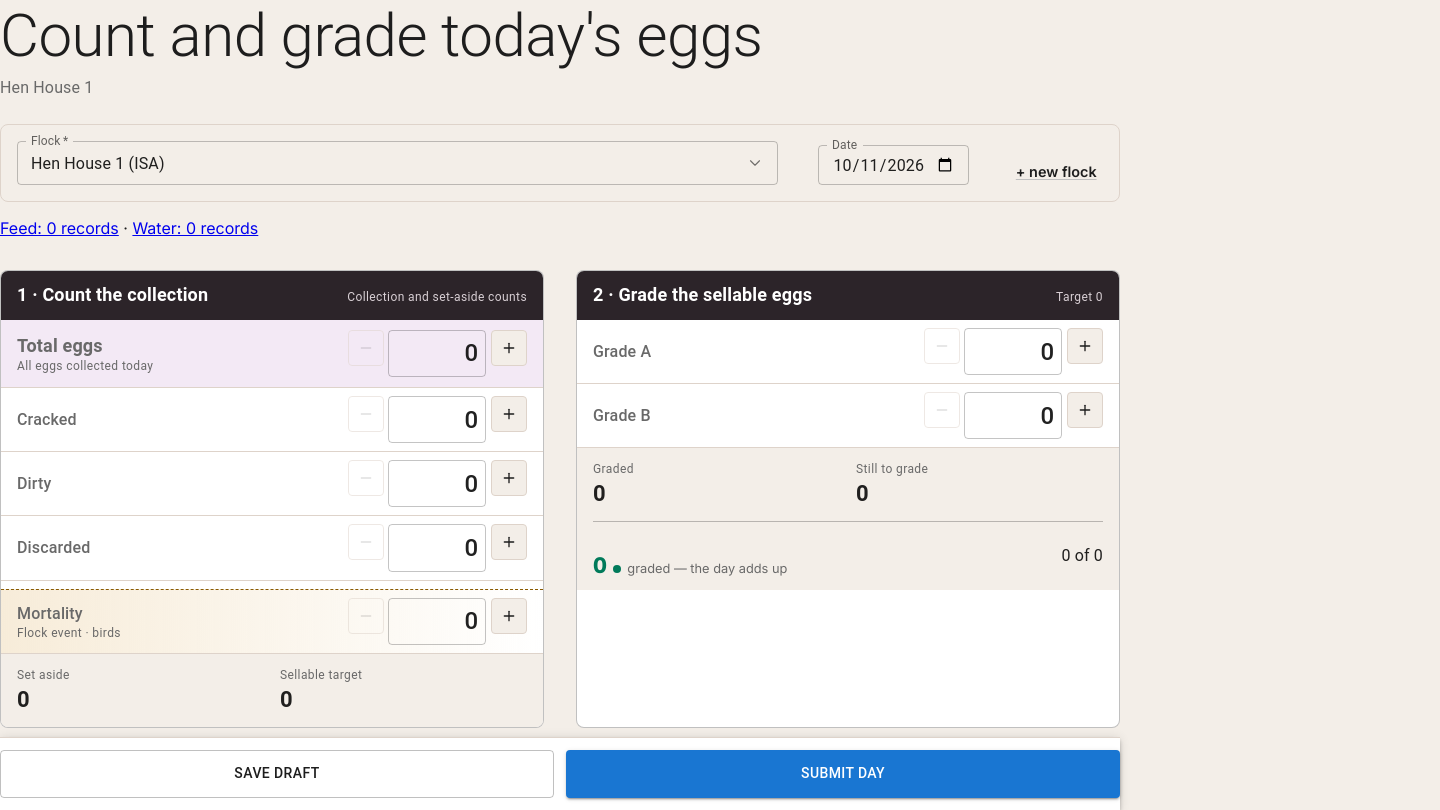
Test: DailyEntryPage new-flock dialog › closes on Cancel without creating anything
Expected: the number field labelled "Grade A" is shown, [964, 328, 1062, 375]
Expected: the button "Save draft" is enabled, [0, 750, 554, 798]
Click the button "+ new flock" at (1056, 172), box [1009, 158, 1103, 185]
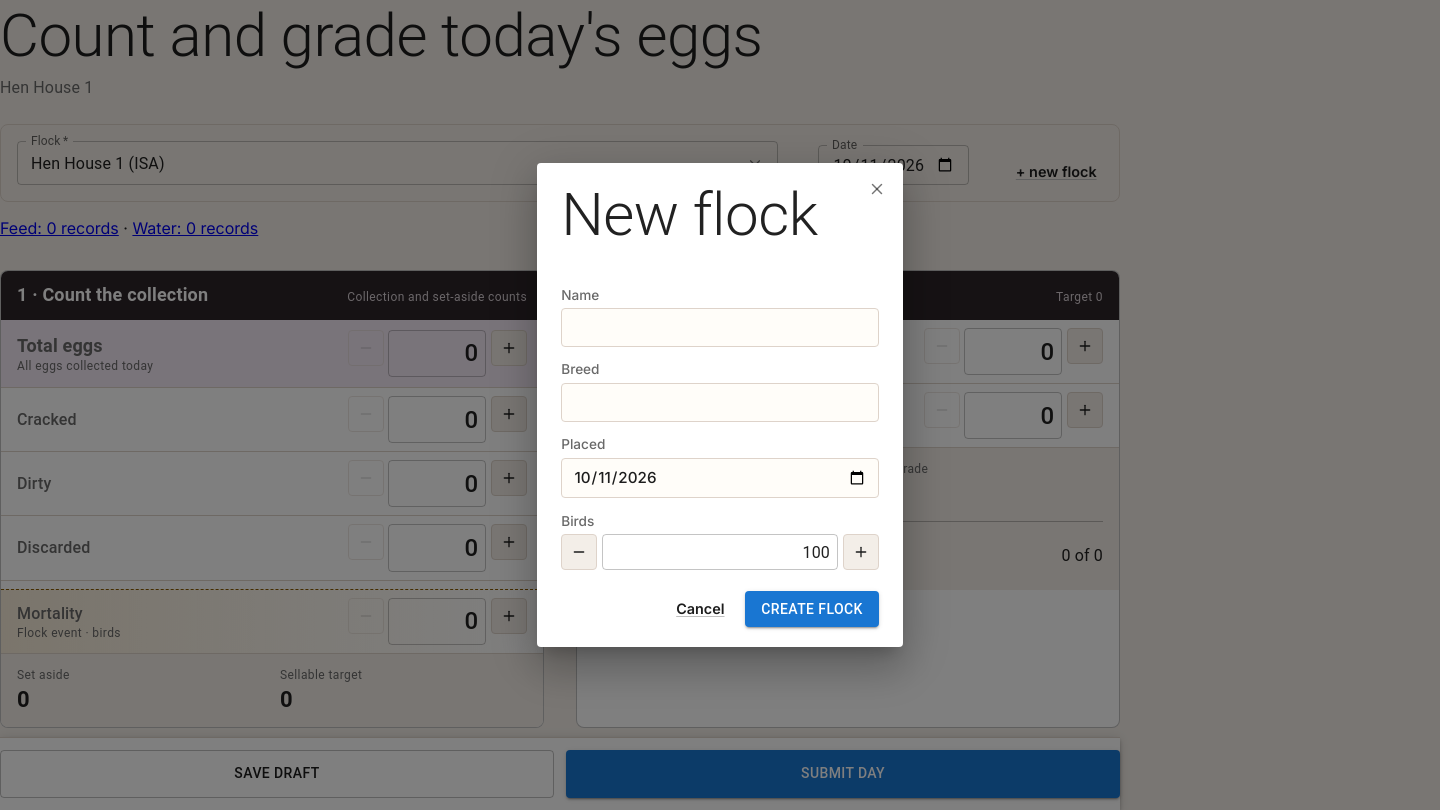
Type "Abandoned" into the field labelled "Name" at (720, 328), box [561, 308, 879, 347]
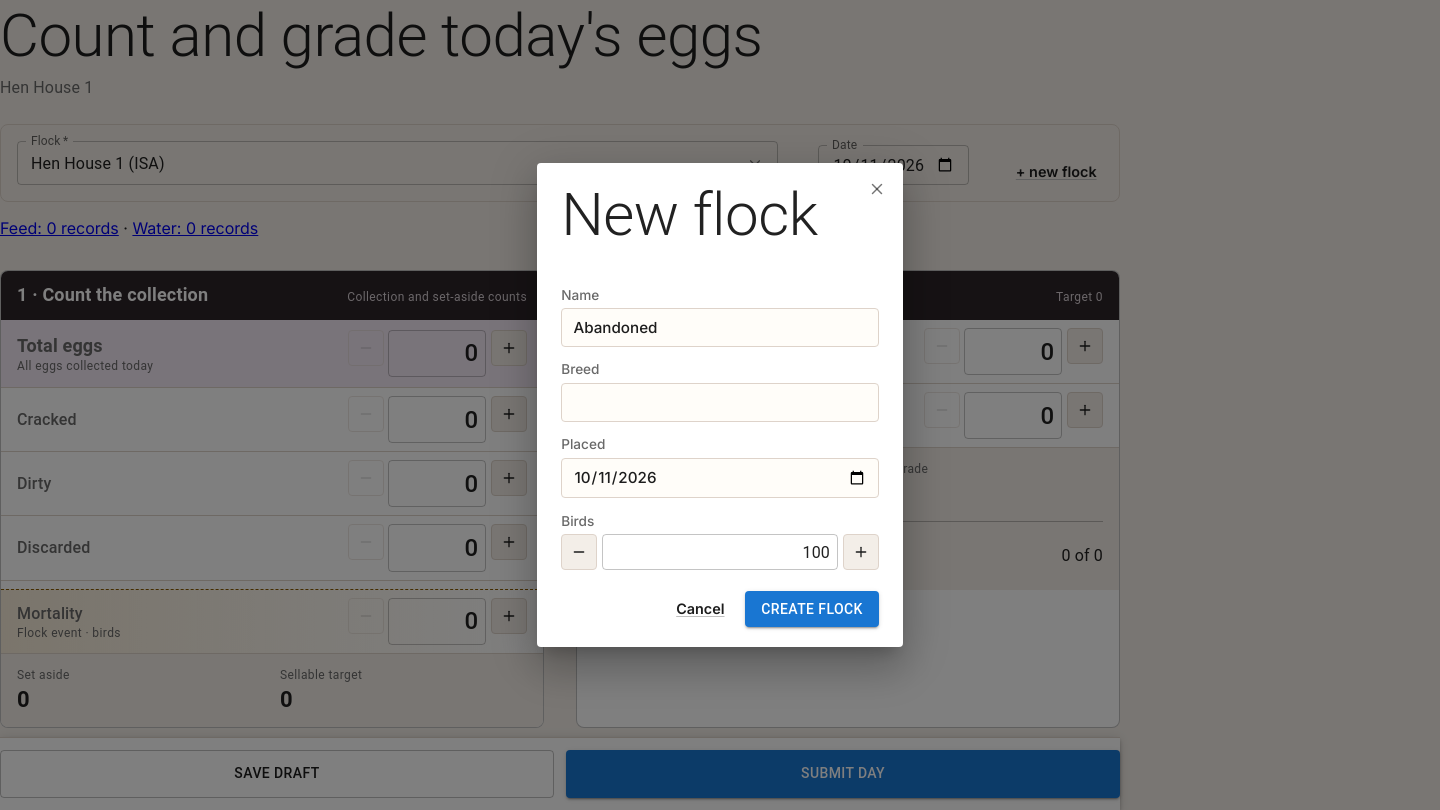
Click the button "Cancel" at (700, 609), box [670, 596, 731, 622]
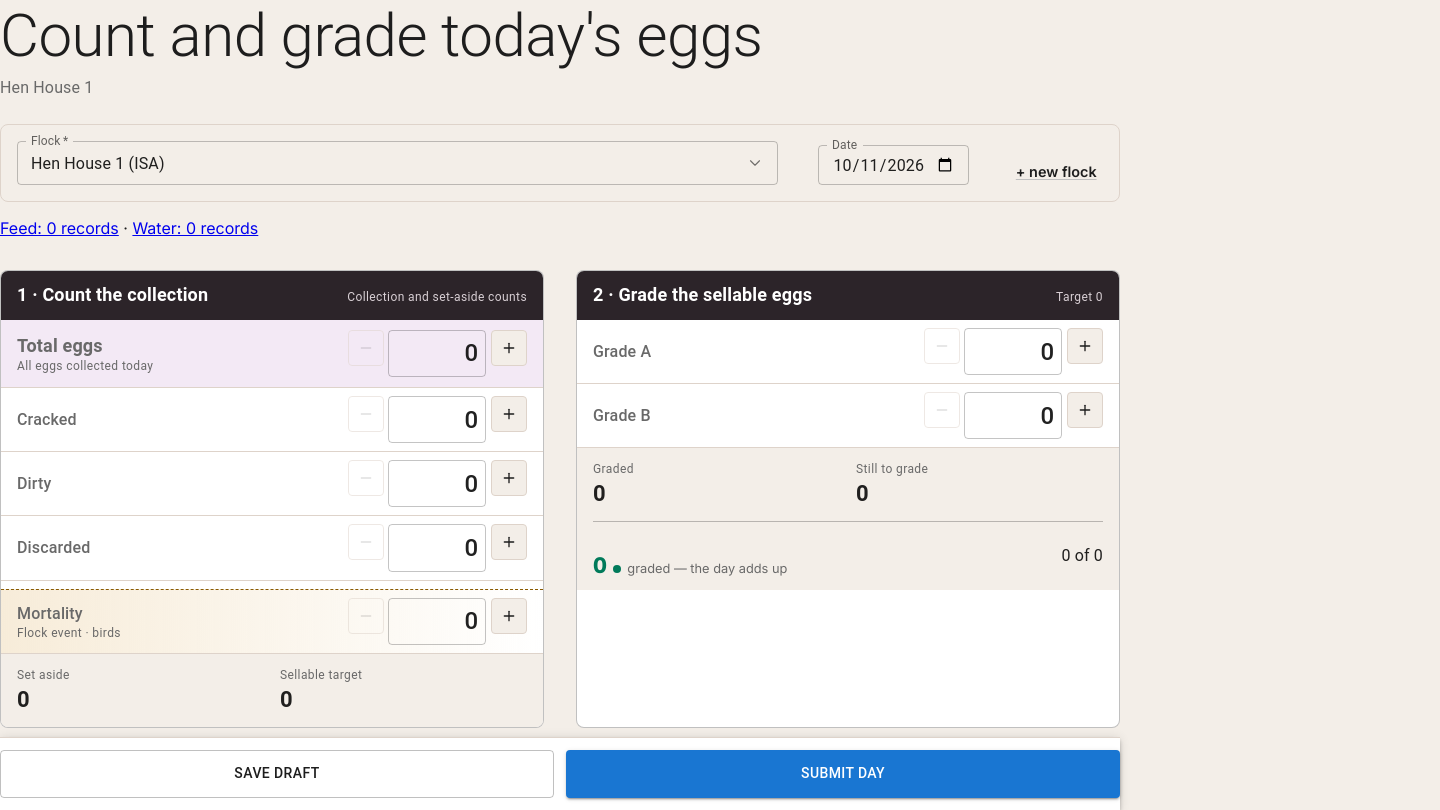
Result: the dialog is gone
